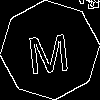M: (25, 25, 71, 74)
